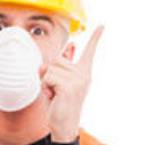up: (37, 24, 106, 136)
